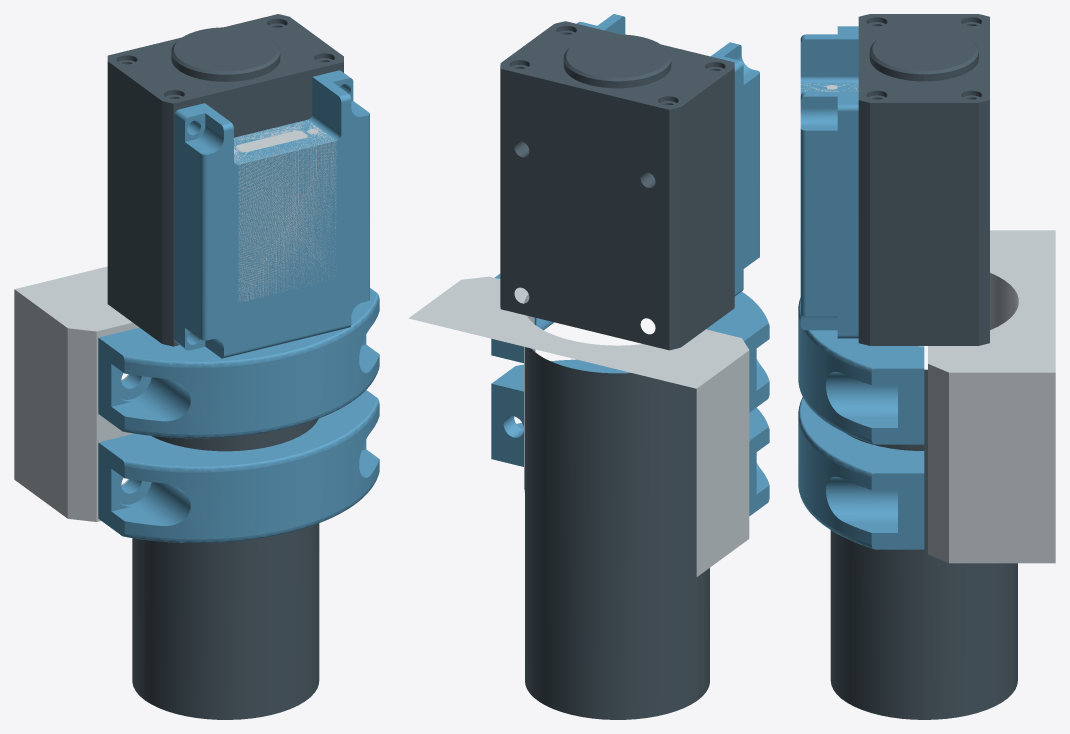
File: AXZ-1032_主机夹持组件.glb
3 views of the same model, side by side, from view 1: azimuth 30°, elevation 25°; view 2: azimuth 150°, elevation 25°; view 3: azimuth 270°, elevation 25° (orthographic).
Parts seen in each view (by area): view 1: STEP body 34, STEP body 36, STEP body 37, STEP body 32, STEP body 31, STEP body 33, STEP body 42; view 2: STEP body 37, STEP body 36, STEP body 33, STEP body 34, STEP body 32, STEP body 31; view 3: STEP body 37, STEP body 33, STEP body 36, STEP body 34, STEP body 32, STEP body 31.
Boxes of the visible parts, x1,y1,x2,y2 form: STEP body 34: (174, 70, 369, 358); STEP body 36: (132, 418, 319, 719); STEP body 37: (107, 14, 343, 346); STEP body 32: (98, 390, 379, 542); STEP body 31: (98, 288, 379, 438); STEP body 33: (14, 266, 139, 521); STEP body 42: (234, 120, 336, 302); STEP body 37: (500, 21, 734, 350); STEP body 36: (525, 347, 709, 719); STEP body 33: (408, 276, 749, 576); STEP body 34: (577, 14, 759, 295); STEP body 32: (491, 359, 769, 516); STEP body 31: (491, 274, 769, 412); STEP body 37: (858, 14, 989, 345); STEP body 33: (928, 230, 1055, 563); STEP body 36: (830, 369, 1017, 719); STEP body 34: (800, 26, 858, 338); STEP body 32: (798, 397, 924, 549); STEP body 31: (798, 297, 924, 444).
Bounding box in the file's own units: 0.064 × 0.1325 × 0.049.
